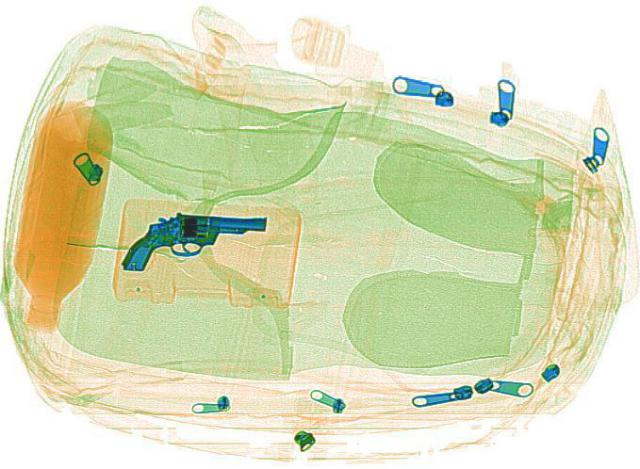Gun: (104, 201, 274, 270)
